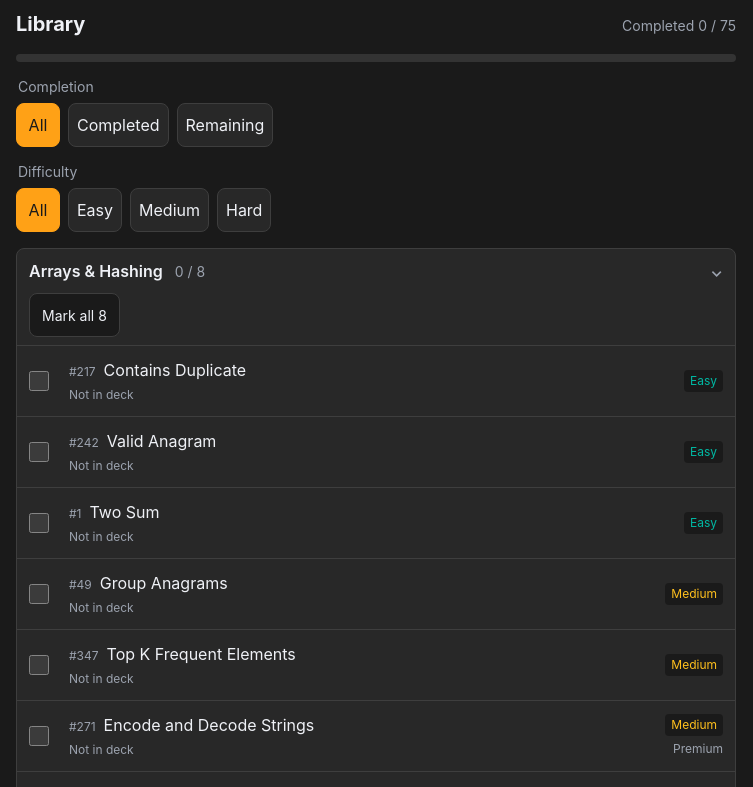
Test: Library component › marks a full category atomically and can undo just that bulk addition
Expected: the checkbox named "Completed: Contains Duplicate" is enabled, [29, 371, 49, 391]
Step 1. Click the button with aria-label "Mark all 8 problems in Arrays & Hashing" → (74, 315), box [29, 293, 120, 337]
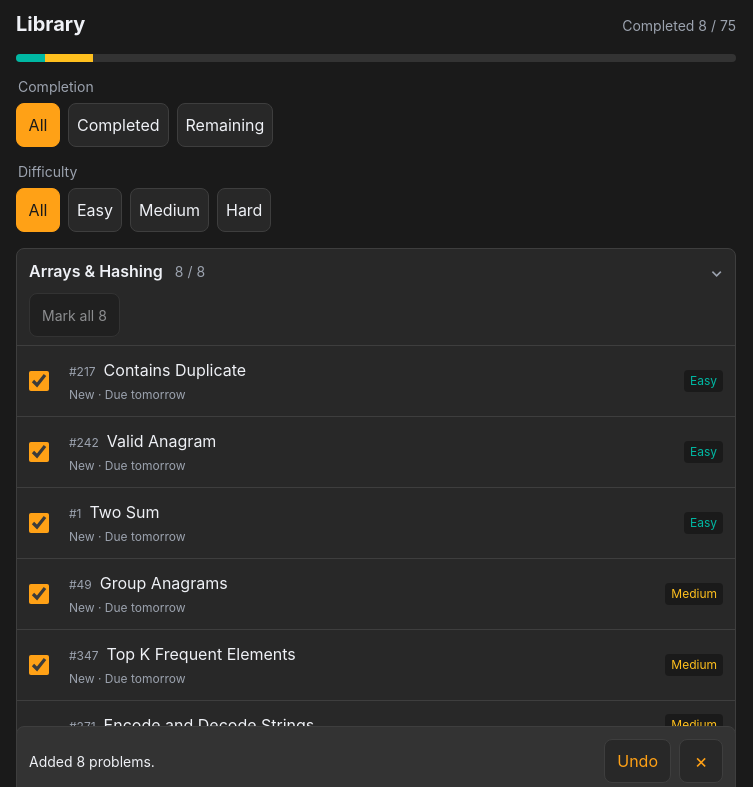
Now the text "Completed 8 / 75" is shown, box [622, 17, 736, 34]
Step 2. Click the button "Undo" → (638, 761), box [604, 739, 671, 783]
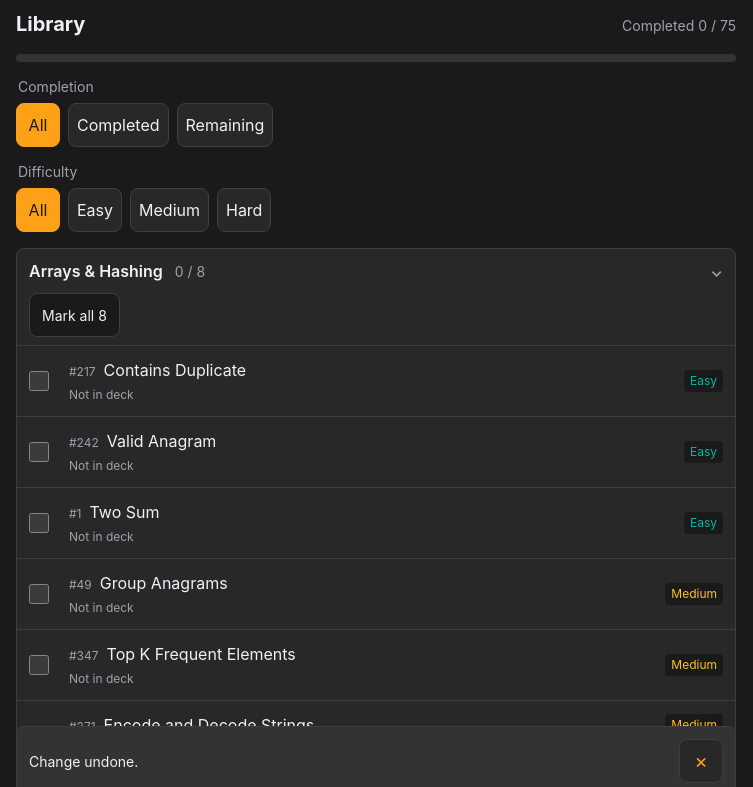
Now the text "Completed 0 / 75" is shown, box [622, 17, 736, 34]
